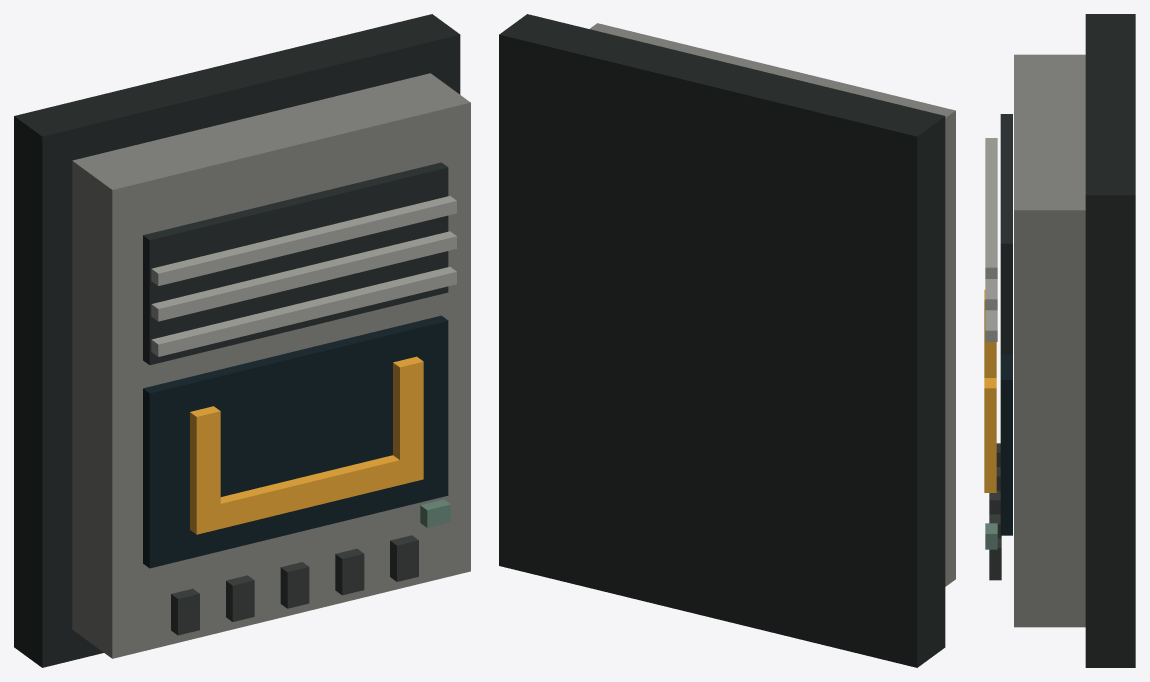
File: CMU3DWallIntercom.glb
3 renders of one model, left to right at view 1: azimuth 30°, elevation 25°; view 2: azimuth 150°, elevation 25°; view 3: azimuth 270°, elevation 25°, orthographic. The views are drawn at different scales.
Parts seen in each view (by area): view 1: intercom case, intercom mounting plate, intercom display, upper speaker recess, speaker horizontal rib (×3), lower microphone grille (×5), amber bottom line, amber left line, amber right line, status dot; view 2: intercom mounting plate, intercom case; view 3: intercom case, intercom mounting plate, upper speaker recess, speaker horizontal rib (×3), intercom display, amber right line, lower microphone grille (×2), amber left line, status dot.
Part boxes in pixels (x1,y1,x2,y2): intercom case: (72,73,470,658); intercom mounting plate: (14,14,460,667); intercom display: (143,315,448,568); upper speaker recess: (143,162,448,365); speaker horizontal rib (×3): (151,196,456,356); lower microphone grille (×5): (171,535,418,635); amber bottom line: (220,455,399,528); amber left line: (190,406,220,534); amber right line: (393,356,423,484); status dot: (420,499,450,527); intercom mounting plate: (499,14,945,667); intercom case: (589,23,955,586); intercom case: (1014,54,1085,627); intercom mounting plate: (1085,14,1135,667); upper speaker recess: (1000,114,1012,354); speaker horizontal rib (×3): (985,138,997,341); intercom display: (1000,355,1012,535); amber right line: (984,378,996,492); lower microphone grille (×2): (989,490,1001,580); amber left line: (984,289,996,377); status dot: (985,523,997,549).
Size of the model in its own units: 0.42 by 0.51 by 0.148.
